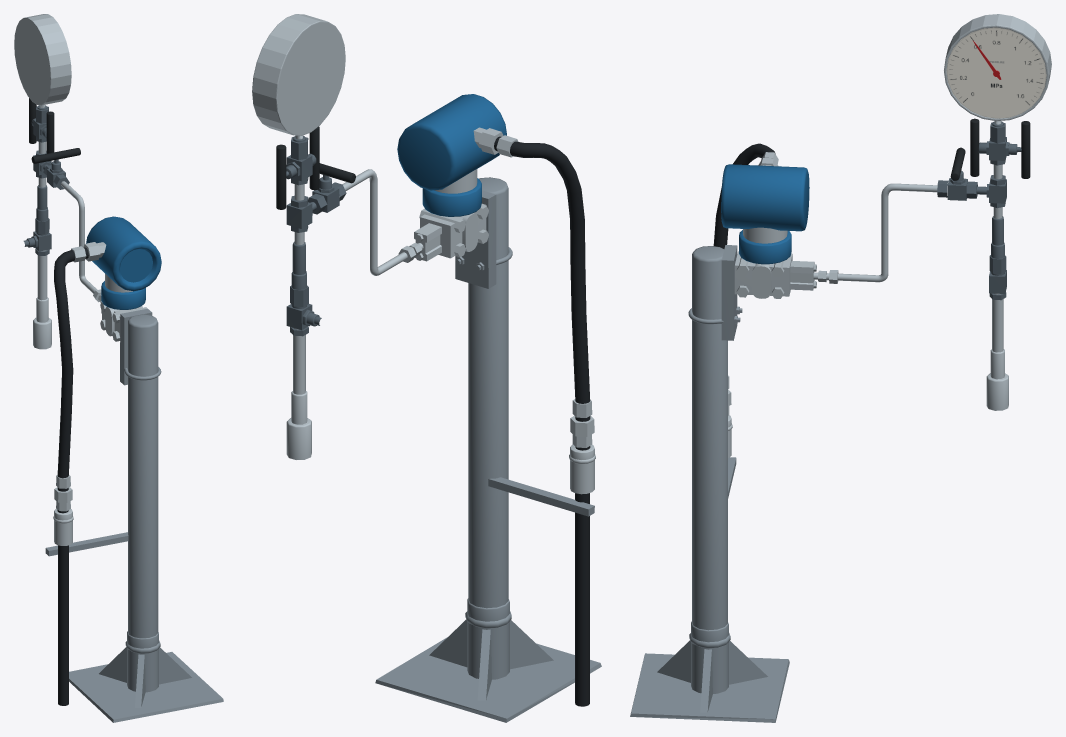
File: 压力变送器_完整装配.glb
The picture shows the model from 3 angles, left to right: view 1: azimuth 30°, elevation 25°; view 2: azimuth 150°, elevation 25°; view 3: azimuth 270°, elevation 25°; orthographic projection. The views are drawn at different scales.
Visible parts, largest first — view 1: 立柱_支撑管, 底座_安装底板, 压力表_表壳, 变送器_电子外壳, 线缆_弯曲护套, 线缆_下引段, 立柱_底部套筒, 变送器_下壳盖, 支架_仪表安装板, 支架_线缆固定片, 引压管_弯管, 线缆_防水接头 (+7 smaller); view 2: 立柱_支撑管, 压力表_表壳, 底座_安装底板, 变送器_电子外壳, 线缆_弯曲护套, 线缆_下引段, 立柱_底部套筒, 支架_仪表安装板, 变送器_下壳盖, 支架_线缆固定片, 引压管_弯管, 线缆_防水接头 (+10 smaller); view 3: 立柱_支撑管, 压力表_表盘, 底座_安装底板, 变送器_电子外壳, 压力表_表壳, 立柱_底部套筒, 引压管_弯管, 支架_仪表安装板, 变送器_下壳盖, 变送器_连接块, 线缆_弯曲护套, 底座_加强筋_02 (+3 smaller).
Part boxes in pixels (x1,y1,x2,y2): 立柱_支撑管: (128, 314, 158, 638); 底座_安装底板: (69, 652, 223, 722); 压力表_表壳: (14, 14, 71, 105); 变送器_电子外壳: (86, 216, 161, 291); 线缆_弯曲护套: (54, 247, 88, 513); 线缆_下引段: (58, 545, 68, 705); 立柱_底部套筒: (125, 631, 160, 692); 变送器_下壳盖: (101, 281, 145, 309); 支架_仪表安装板: (120, 308, 152, 385); 支架_线缆固定片: (45, 532, 128, 556); 引压管_弯管: (61, 181, 99, 296); 线缆_防水接头: (53, 508, 73, 545); 立柱_支撑管: (468, 177, 508, 608); 压力表_表壳: (252, 14, 345, 135); 底座_安装底板: (375, 637, 601, 722); 变送器_电子外壳: (397, 94, 506, 190); 线缆_弯曲护套: (494, 136, 590, 450); 线缆_下引段: (575, 493, 589, 706); 立柱_底部套筒: (465, 598, 511, 679); 支架_仪表安装板: (455, 190, 496, 288); 变送器_下壳盖: (422, 178, 481, 216); 支架_线缆固定片: (488, 477, 594, 516); 引压管_弯管: (342, 169, 423, 275); 线缆_防水接头: (569, 444, 595, 494); 立柱_支撑管: (692, 246, 727, 630); 压力表_表盘: (946, 27, 1046, 118); 底座_安装底板: (630, 653, 789, 722); 变送器_电子外壳: (721, 164, 809, 231); 压力表_表壳: (944, 14, 1051, 120); 立柱_底部套筒: (689, 621, 730, 693); 引压管_弯管: (813, 183, 937, 282); 支架_仪表安装板: (721, 245, 737, 340); 变送器_下壳盖: (739, 230, 791, 264); 变送器_连接块: (734, 251, 792, 296); 线缆_弯曲护套: (713, 143, 775, 248); 底座_加强筋_02: (729, 641, 767, 684).
Bounding box in the file's own units: 0.1314 × 0.4999 × 0.2801.
Materials: 8 (1 with a texture image).
